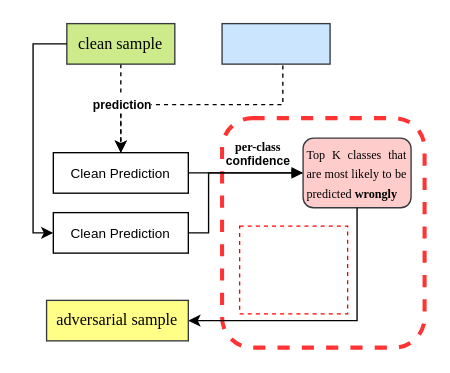
Image size: 450x373. Some labels were removed from this diagram. Each missing label, with the centre of its shape:
"Iterative Fast Gradient Sign Method adversarial perturbation" goes at [293,269].
"victim model" goes at [275,43].
